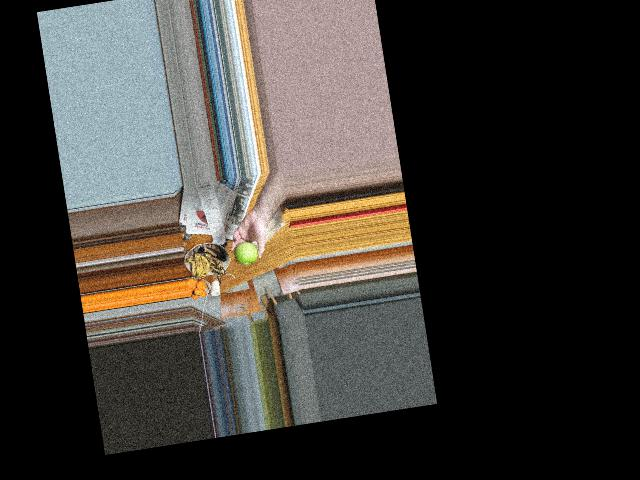apple: (232, 238, 261, 268)
